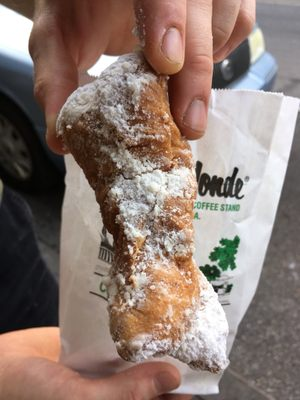pizza: (0, 2, 298, 369)
